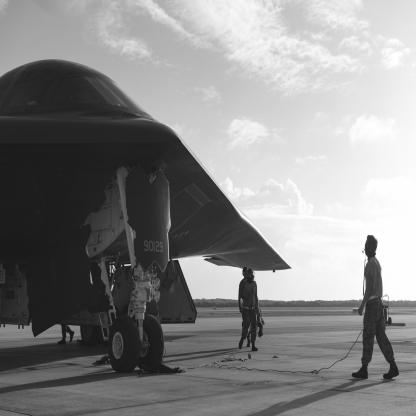B2: (1, 60, 293, 374)
